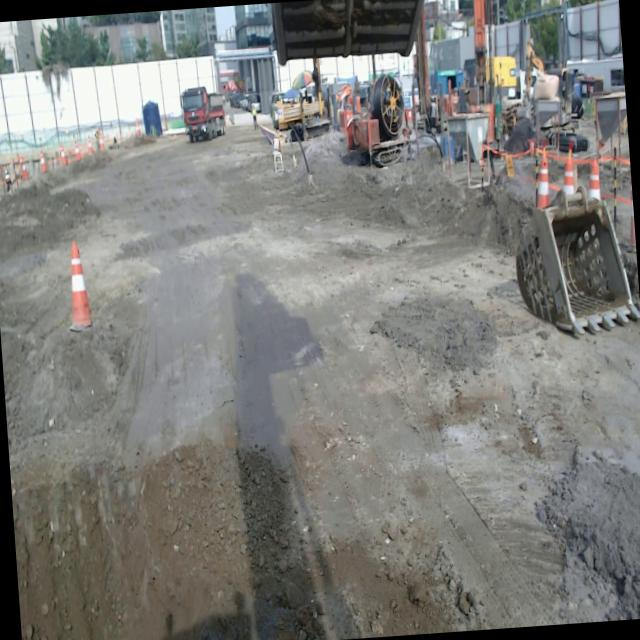white-sand: (0, 126, 640, 640)
